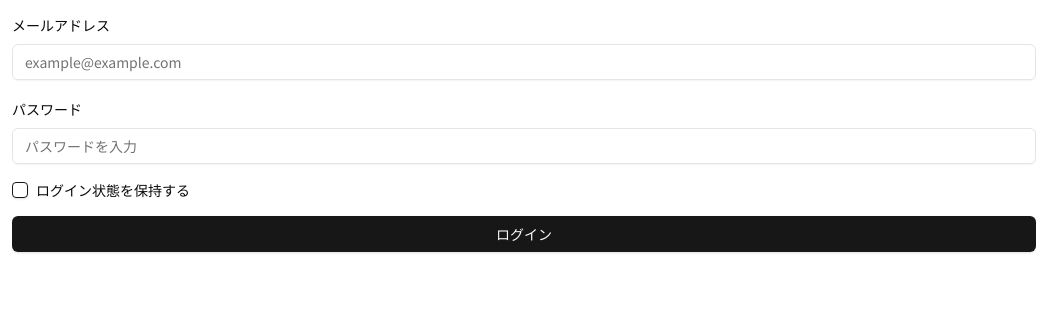
LoginForm › フォームバリデーション › 両方未入力でsubmitすると両方のバリデーションエラーが表示されること
Click the button "ログイン" at (524, 234), box [12, 216, 1036, 252]
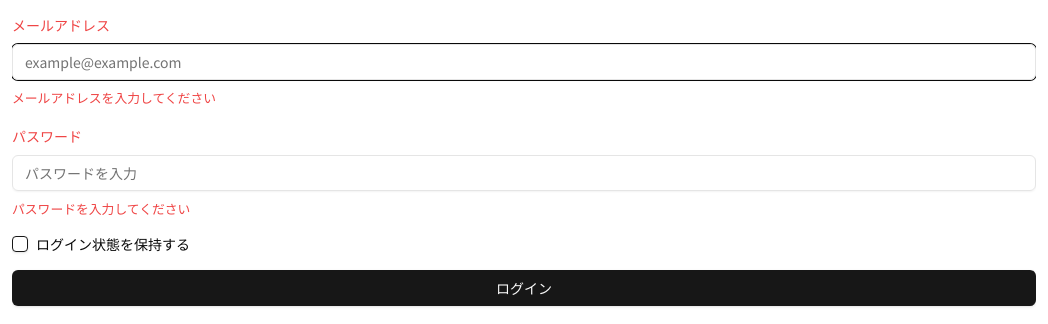
expect the text "メールアドレスを入力してください" is shown: met, box [12, 88, 216, 107]
expect the text "パスワードを入力してください" is shown: met, box [12, 199, 190, 218]
